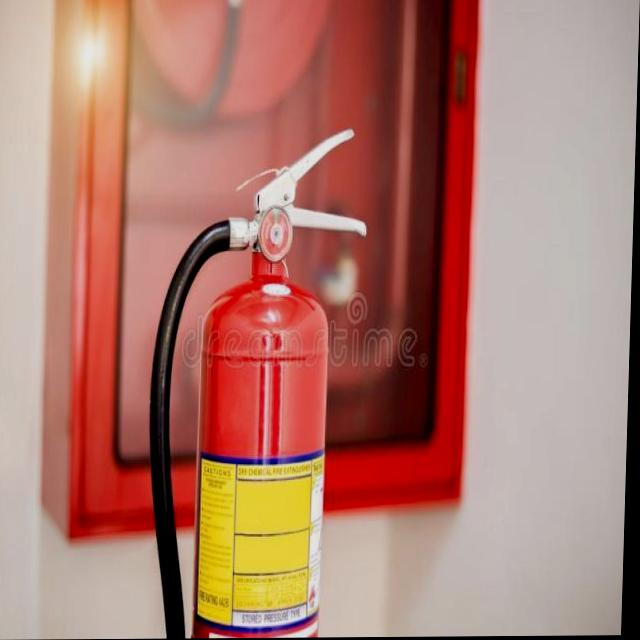FireExtinguisher: (141, 123, 373, 638)
